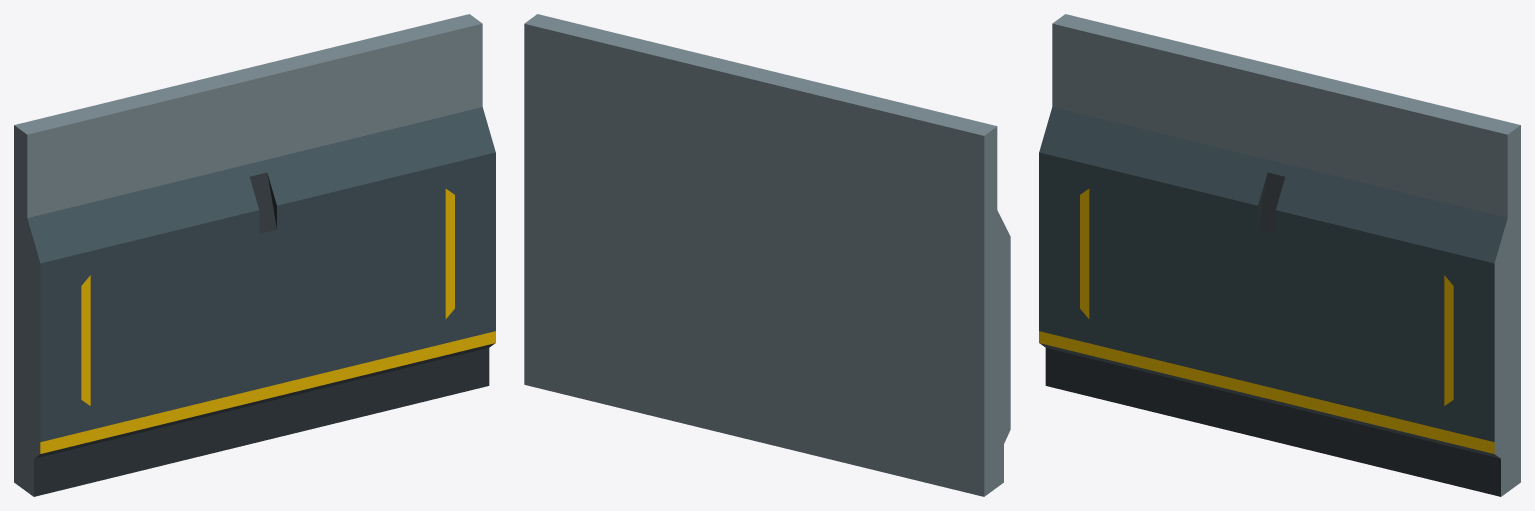
Rendered from Wall_type_C_042.fbx.
3 views of the same model, side by side, from view 1: azimuth 30°, elevation 25°; view 2: azimuth 150°, elevation 25°; view 3: azimuth 330°, elevation 25° (orthographic).
Parts seen in each view (by area): view 1: Wall_type_C_042; view 2: Wall_type_C_042; view 3: Wall_type_C_042.
Boxes of the visible parts, bbox=[...] form: Wall_type_C_042: bbox=[14, 14, 495, 496]; Wall_type_C_042: bbox=[524, 14, 1010, 496]; Wall_type_C_042: bbox=[1039, 14, 1520, 496].
Size of the model in its own units: 200 by 20 by 150.
